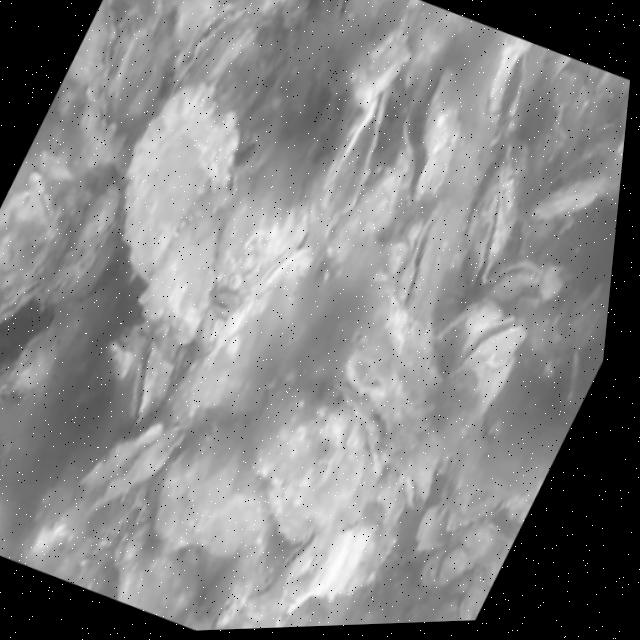Oyster-Closed: (240, 514, 330, 615), (450, 317, 526, 427), (175, 0, 251, 90), (464, 160, 518, 282), (396, 202, 447, 306), (66, 0, 114, 92), (483, 261, 545, 303), (0, 278, 42, 323), (209, 600, 237, 630)
Oyster-Indeterminate: (123, 89, 238, 280), (190, 247, 317, 409), (247, 386, 376, 536), (140, 219, 220, 347), (119, 522, 206, 623), (339, 487, 402, 596), (0, 195, 52, 294), (309, 523, 375, 600), (447, 450, 508, 533), (110, 33, 165, 118), (460, 544, 512, 621), (439, 301, 504, 358), (530, 174, 605, 219), (13, 324, 60, 392), (75, 105, 122, 170), (76, 185, 120, 249), (177, 0, 220, 46), (416, 505, 453, 549), (409, 593, 460, 623), (437, 548, 472, 579)
Oyster-Open: (333, 304, 447, 507), (83, 419, 187, 508), (321, 90, 388, 215), (401, 72, 463, 200), (127, 342, 175, 417), (486, 45, 526, 130), (366, 31, 411, 94)
